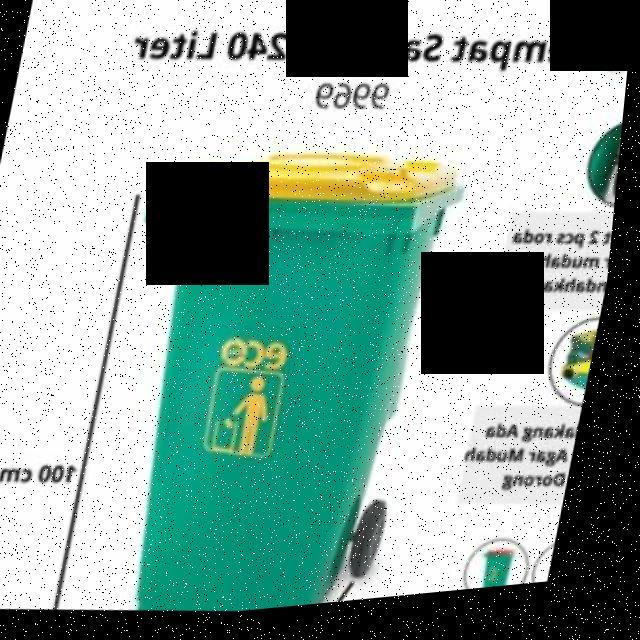bin: (78, 125, 485, 630)
